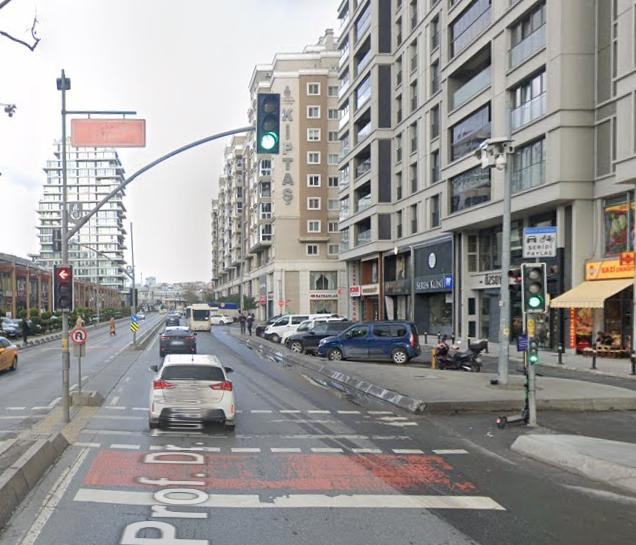greenlight: (258, 93, 280, 152), (523, 263, 545, 308)
redlight: (55, 266, 73, 308)
